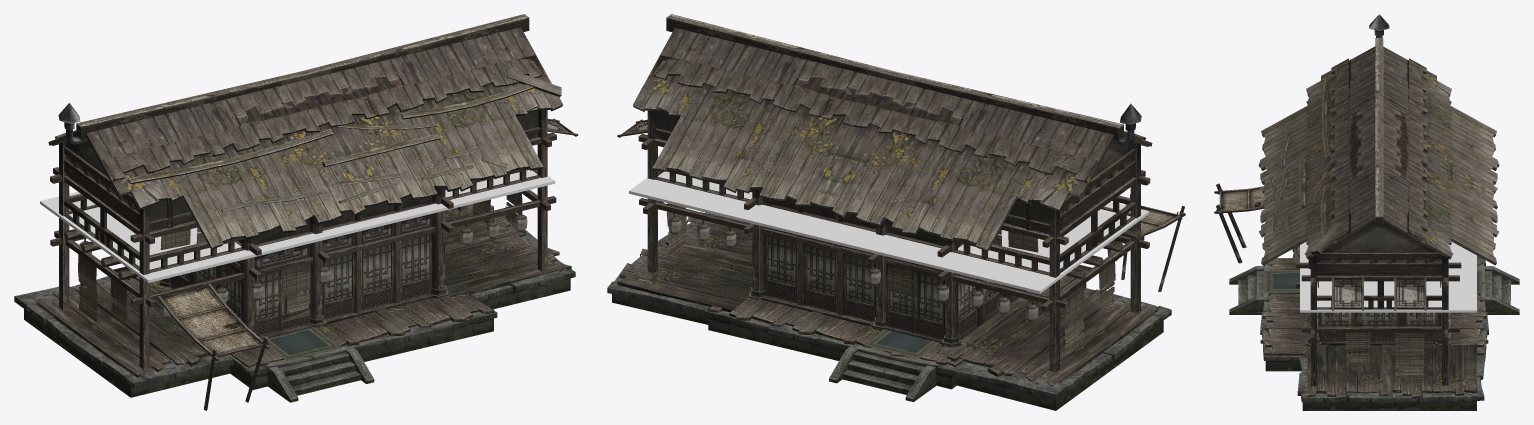
The model's file is yaopu.FBX.
3 renders of one model, left to right at view 1: azimuth 30°, elevation 25°; view 2: azimuth 150°, elevation 25°; view 3: azimuth 270°, elevation 25°, orthographic. The views are drawn at different scales.
Parts seen in each view (by area): view 1: yaopu_001, Box001, 对象003, 对象004; view 2: yaopu_001, Box001, 对象002, 对象001; view 3: yaopu_001, Box001.
Part boxes in pixels (x1=…): yaopu_001: x1=14, y1=14, x2=578, y2=410; Box001: x1=40, y1=169, x2=555, y2=282; 对象003: x1=254, y1=270, x2=286, y2=336; 对象004: x1=279, y1=262, x2=311, y2=331; yaopu_001: x1=607, y1=14, x2=1185, y2=410; Box001: x1=629, y1=171, x2=1149, y2=293; 对象002: x1=911, y1=271, x2=944, y2=339; 对象001: x1=886, y1=264, x2=919, y2=331; yaopu_001: x1=1214, y1=14, x2=1519, y2=410; Box001: x1=1300, y1=242, x2=1476, y2=312.
Size of the model in its own units: 20.54 by 10.6 by 13.58.
